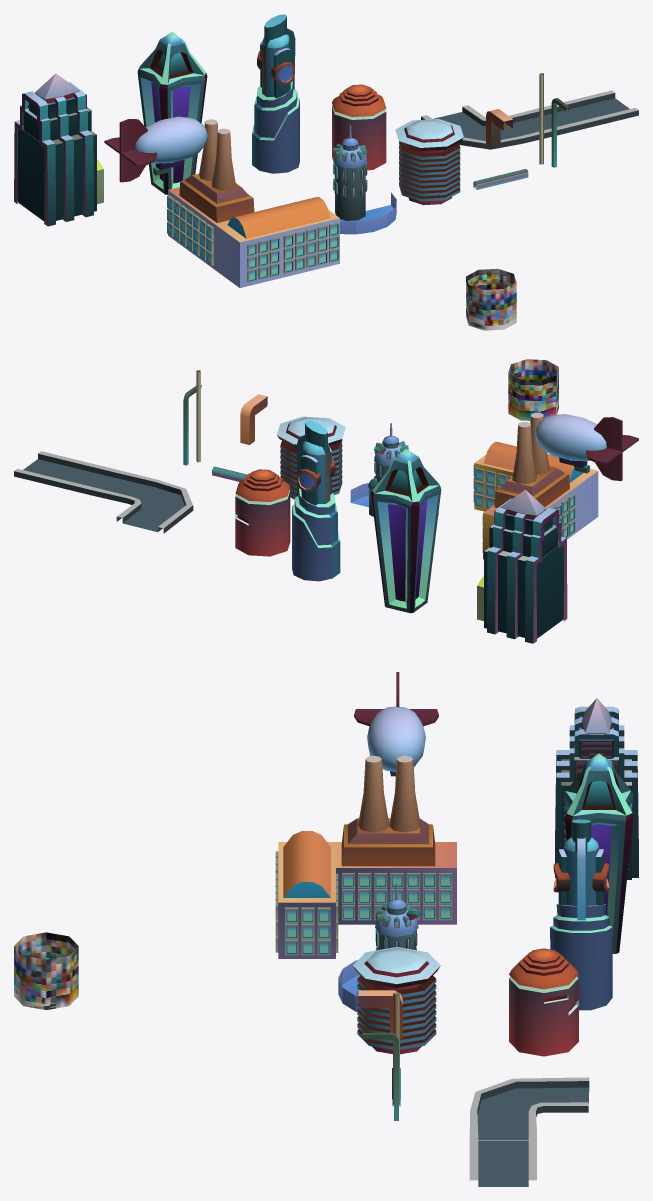
The model's file is assets_t2_a4.fbx.
The picture shows the model from 3 angles, top to bottom: view 1: azimuth 30°, elevation 25°; view 2: azimuth 150°, elevation 25°; view 3: azimuth 270°, elevation 25°; orthographic projection. The views are drawn at different scales.
Parts seen in each view (by area): view 1: FACTORY, townhall, fancy2, house3, silo2, Plane.001, silo, godray, fancy, road1, road2, Bg (+4 smaller); view 2: townhall, house3, FACTORY, fancy2, Plane.001, silo, road1, godray, road2, silo2, fancy, pipe1 (+2 smaller); view 3: FACTORY, fancy2, silo, house3, silo2, townhall, road1, godray, Plane.001, road2, fancy, pipe1 (+1 smaller).
Boxes of the visible parts, bbox=[...] form: FACTORY: bbox=[167, 119, 339, 287]; townhall: bbox=[14, 73, 103, 226]; fancy2: bbox=[252, 14, 299, 173]; house3: bbox=[137, 31, 207, 194]; silo2: bbox=[395, 119, 463, 205]; Plane.001: bbox=[104, 116, 207, 182]; silo: bbox=[332, 84, 386, 170]; godray: bbox=[466, 268, 516, 330]; fancy: bbox=[333, 125, 367, 220]; road1: bbox=[421, 105, 562, 149]; road2: bbox=[535, 90, 638, 134]; Bg: bbox=[340, 192, 396, 234]; townhall: bbox=[477, 489, 567, 643]; house3: bbox=[371, 448, 441, 613]; FACTORY: bbox=[473, 412, 598, 559]; fancy2: bbox=[292, 421, 340, 581]; Plane.001: bbox=[534, 414, 638, 480]; silo: bbox=[235, 469, 290, 556]; road1: bbox=[91, 470, 193, 533]; godray: bbox=[508, 359, 558, 420]; road2: bbox=[14, 451, 117, 495]; silo2: bbox=[277, 416, 345, 499]; fancy: bbox=[368, 423, 408, 516]; pipe1: bbox=[240, 394, 267, 444]; FACTORY: bbox=[275, 755, 456, 958]; fancy2: bbox=[550, 819, 612, 1010]; silo: bbox=[509, 948, 578, 1056]; house3: bbox=[564, 753, 633, 953]; silo2: bbox=[353, 947, 440, 1054]; townhall: bbox=[555, 698, 638, 879]; road1: bbox=[469, 1077, 589, 1140]; godray: bbox=[14, 932, 78, 1009]; Plane.001: bbox=[354, 672, 438, 776]; road2: bbox=[469, 1134, 536, 1186]; fancy: bbox=[375, 883, 421, 950]; pipe1: bbox=[358, 990, 402, 1039].
Size of the model in its own units: 1106 by 297 by 867.
